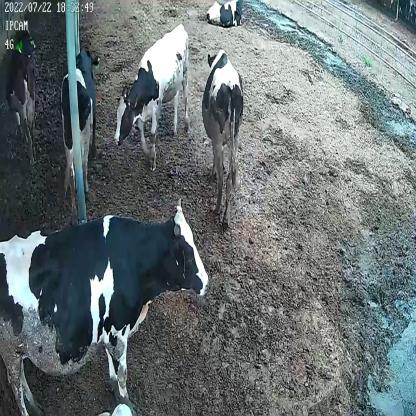cow: (0, 196, 208, 416), (113, 22, 190, 169), (203, 49, 245, 230), (62, 43, 98, 197), (5, 27, 39, 165), (205, 0, 244, 28)
